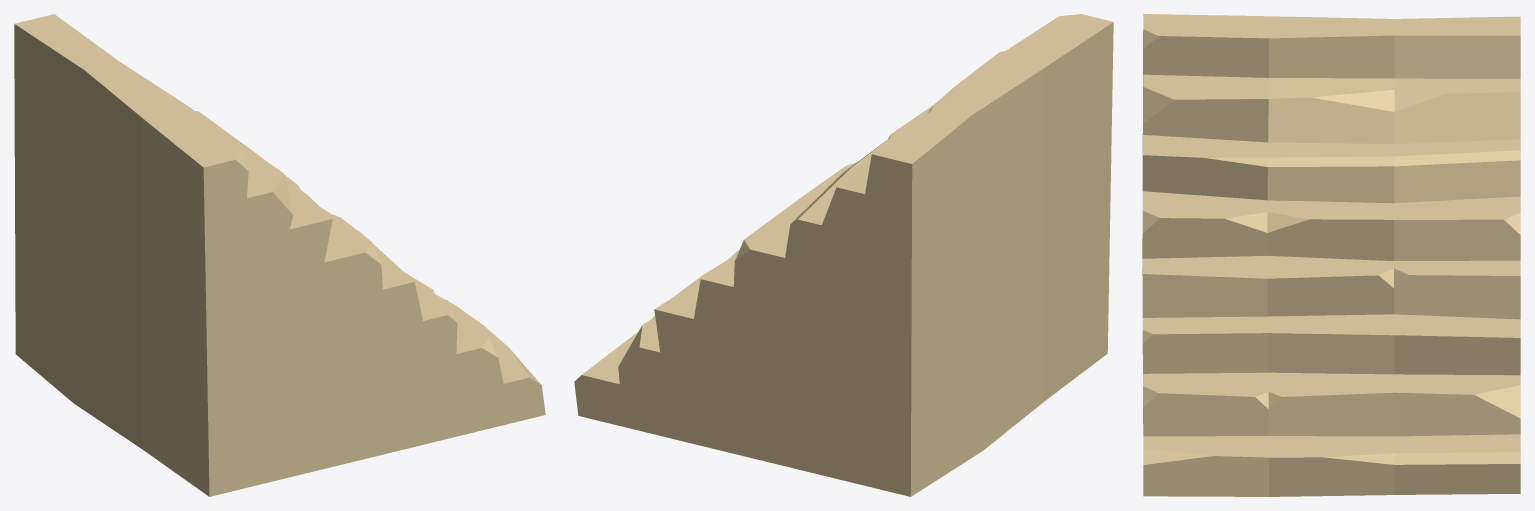
Rendered from stairs.fbx.
The picture shows the model from 3 angles, left to right: view 1: azimuth 30°, elevation 25°; view 2: azimuth 150°, elevation 25°; view 3: azimuth 270°, elevation 25°; orthographic projection. The views are drawn at different scales.
Parts seen in each view (by area): view 1: Stairs; view 2: Stairs; view 3: Stairs.
Part boxes in pixels (x1,y1,x2,y2): Stairs: [14, 14, 545, 496]; Stairs: [574, 14, 1113, 496]; Stairs: [1142, 14, 1520, 496].
Size of the model in its own units: 1.64 by 1.5 by 1.6.
